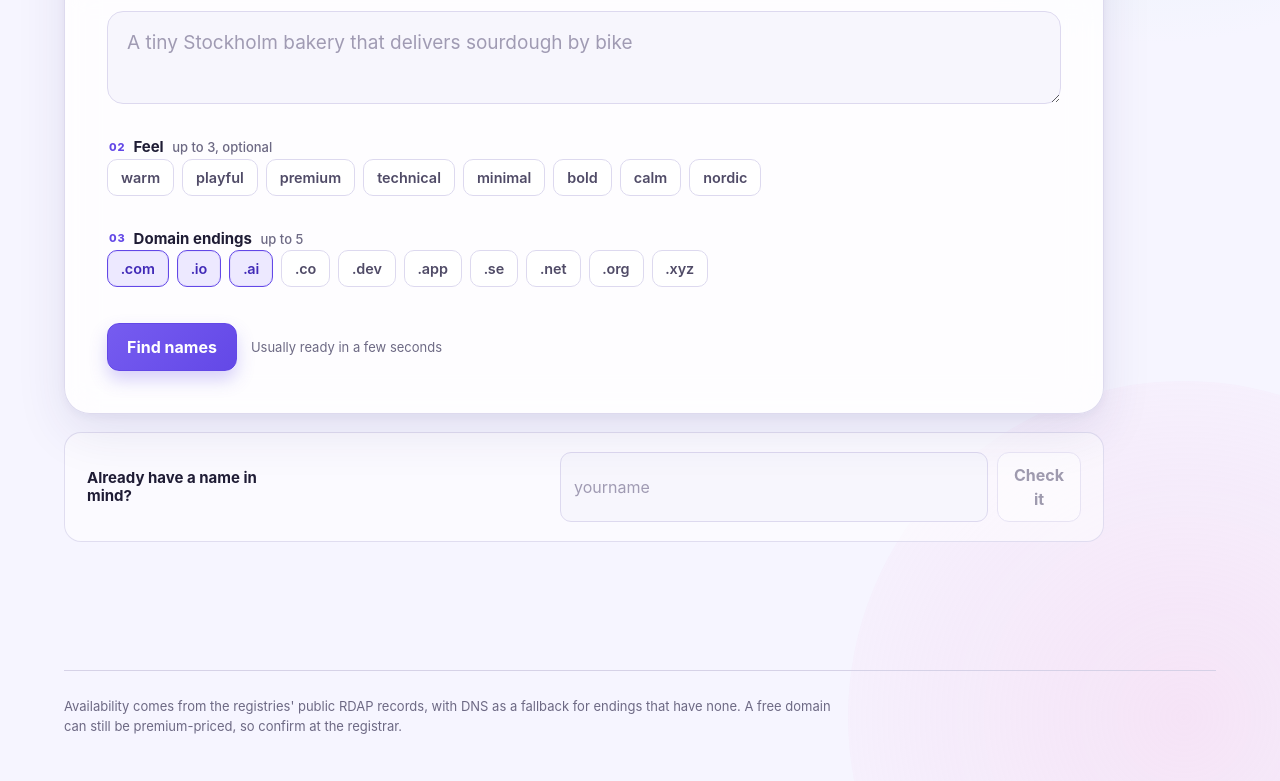
Scenario: App › shows a spinner on the button while your own name is checked
This screenshot has width=1280, height=781.
(page scrolled)
Type "potterly" into the field labelled "Already have a name in mind?".
click(774, 487); type("potterly")  # box 560,452 -> 988,522
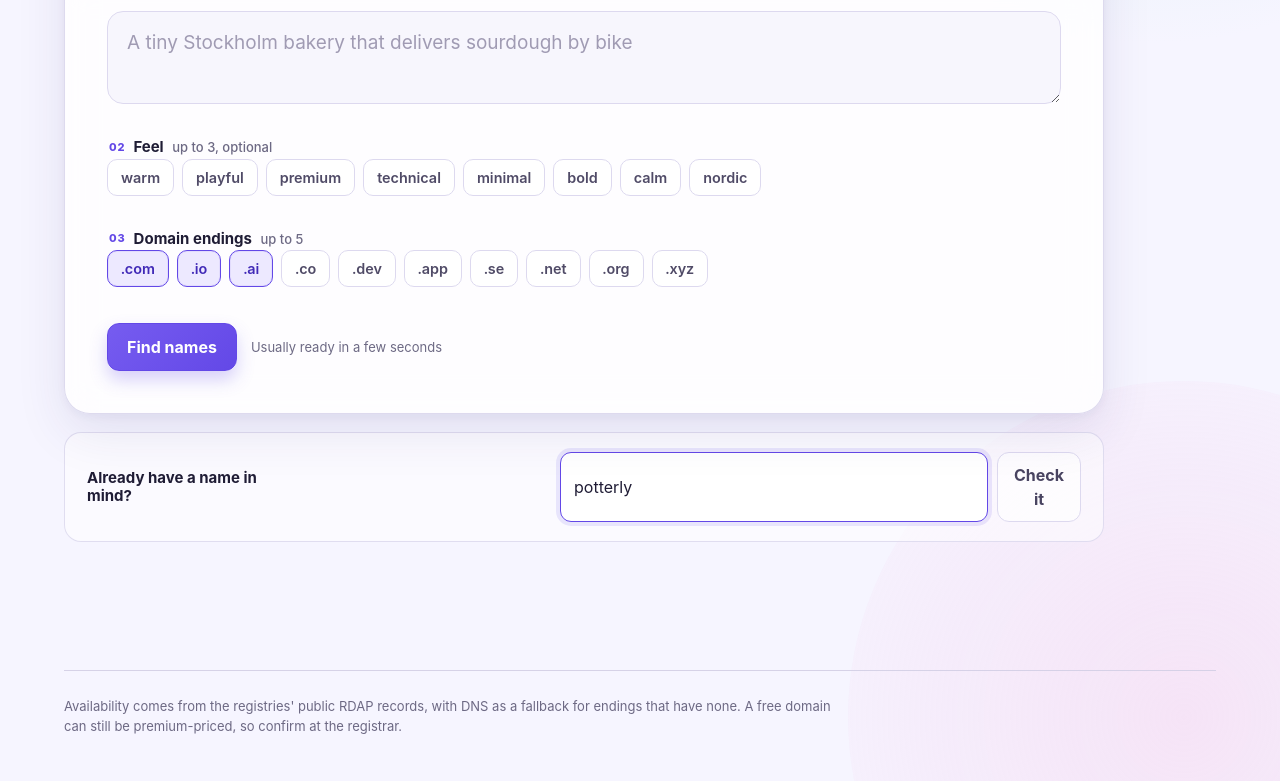
Click the button "Check it".
click(1039, 487)  # box 997,452 -> 1081,522
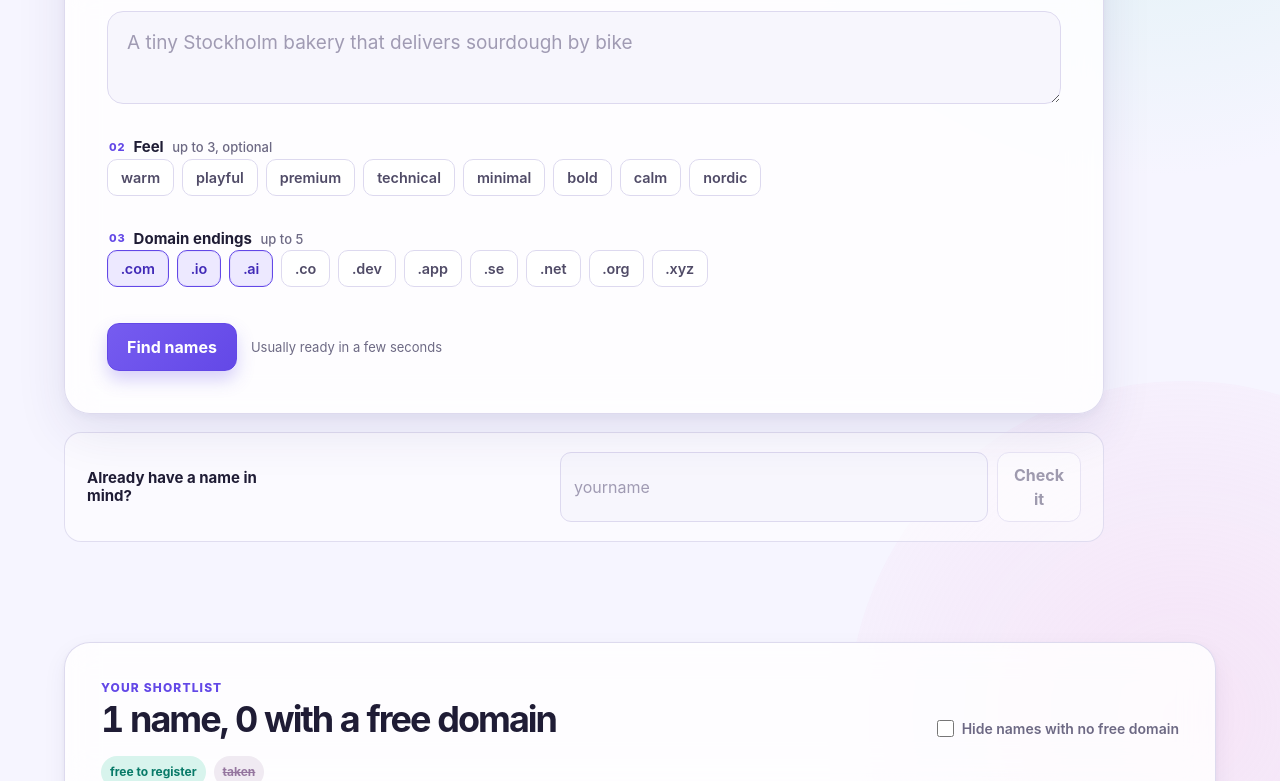
Now the button named "Checking…" is disabled, box 997,452 -> 1081,522
